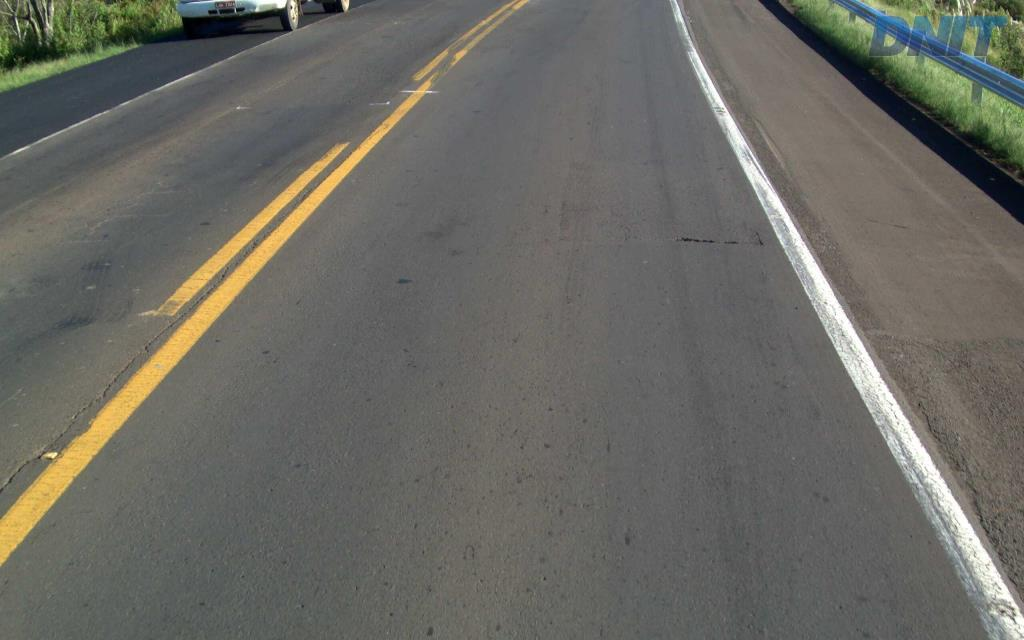pothole: (674, 228, 742, 247)
